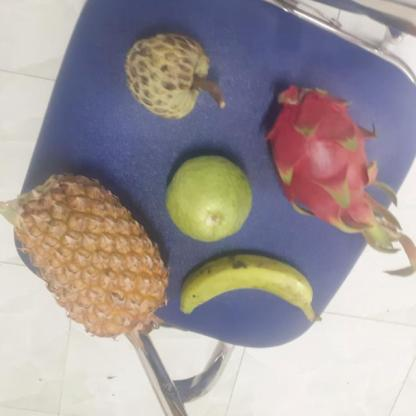annona: (119, 32, 216, 119)
banana: (170, 252, 313, 321)
guava: (158, 154, 252, 241)
pineapple: (11, 169, 165, 331)
pitaya: (258, 83, 390, 226)
